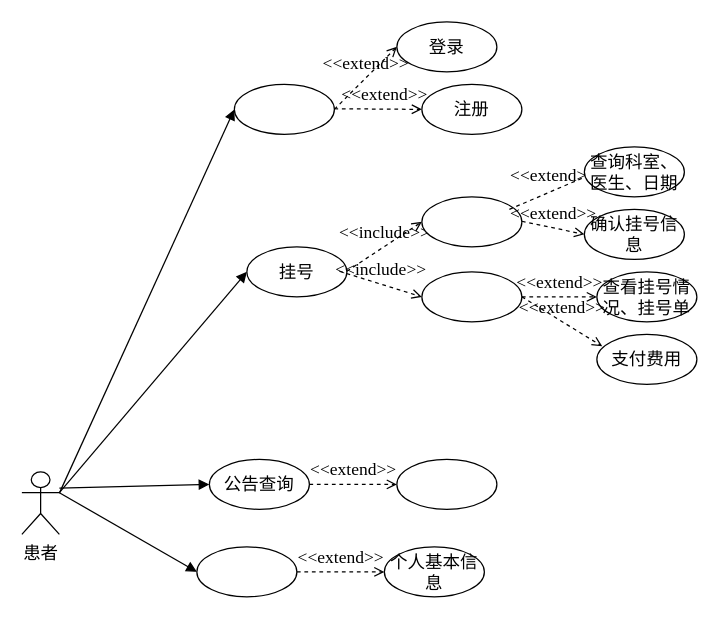
This 719x619 diagram has some shape labels left out. The centre of each missing label's shape, as x and y in pixels:
个人信息: [246,571]
公告详情: [446,483]
挂号查询: [471,296]
登录与注册: [283,108]
预约挂号: [471,221]
